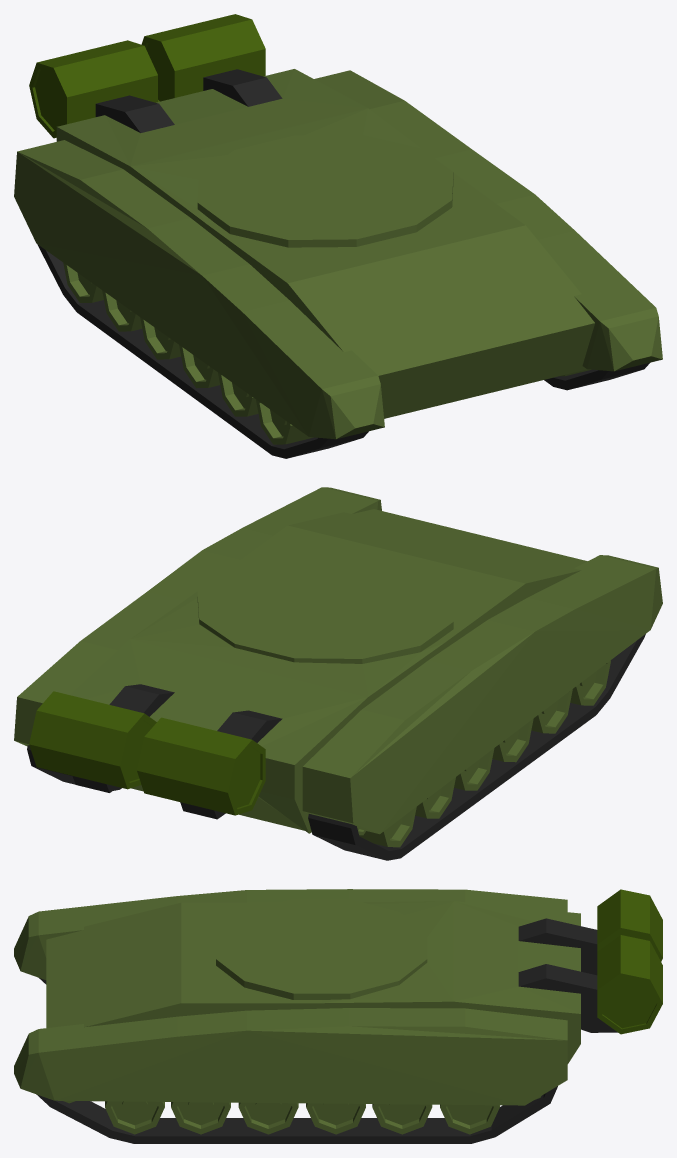
Rendered from Proto_Vehicle_Tank_Body_01.fbx.
3 views of the same model, one above another, from view 1: azimuth 30°, elevation 25°; view 2: azimuth 150°, elevation 25°; view 3: azimuth 270°, elevation 25° (orthographic). The views are drawn at different scales.
Visible parts, largest first — view 1: Proto_Vehicle_Tank_Body_01; view 2: Proto_Vehicle_Tank_Body_01; view 3: Proto_Vehicle_Tank_Body_01.
Boxes of the visible parts, left/top/right/bottom form: Proto_Vehicle_Tank_Body_01: left=14, top=14, right=662, bottom=458; Proto_Vehicle_Tank_Body_01: left=14, top=487, right=662, bottom=860; Proto_Vehicle_Tank_Body_01: left=14, top=889, right=662, bottom=1143.
Bounding box in the file's own units: 3.7 × 1.71 × 6.99.
